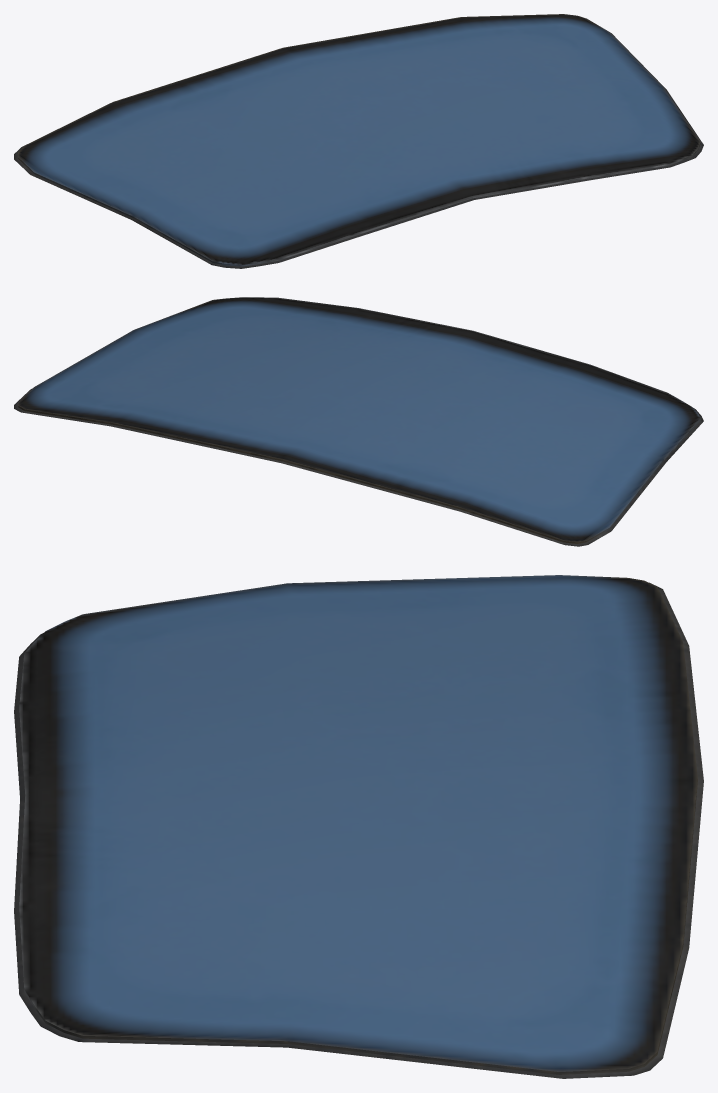
The model's file is FordTaurusFrontWindshield_WorldItem.fbx.
3 views of the same model, one above another, from view 1: azimuth 30°, elevation 25°; view 2: azimuth 150°, elevation 25°; view 3: azimuth 270°, elevation 25° (orthographic). The views are drawn at different scales.
Visible parts, largest first — view 1: Windshield_obj; view 2: Windshield_obj; view 3: Windshield_obj.
Boxes of the visible parts, box(x1,y1,x2,y2) form: Windshield_obj: box(14, 14, 703, 268); Windshield_obj: box(14, 297, 703, 546); Windshield_obj: box(14, 575, 703, 1078).
Size of the model in its own units: 2.13 by 0.1089 by 1.24.
